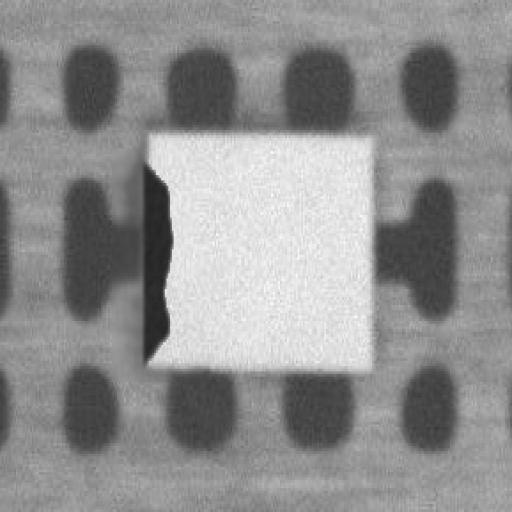DIE_BROKEN: (136, 149, 172, 358)
